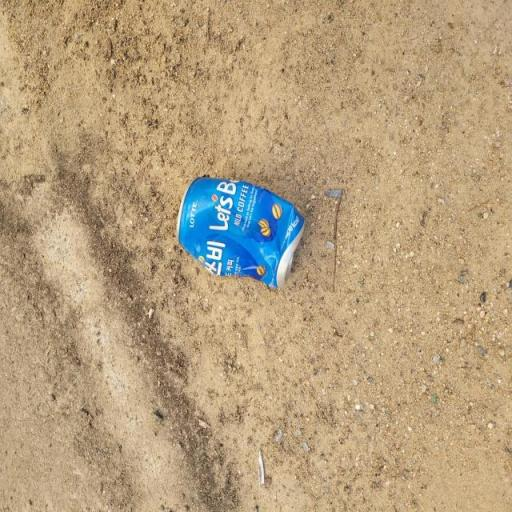metal: (161, 153, 314, 318)
